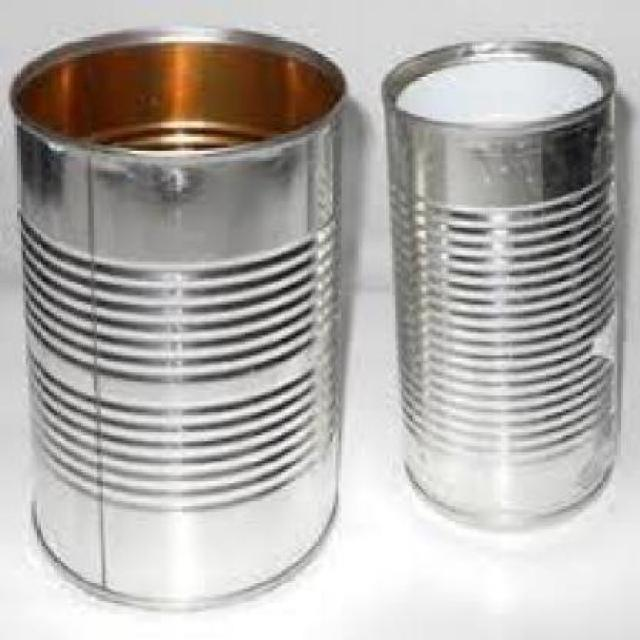METAL: (5, 26, 347, 606), (378, 34, 618, 520)
